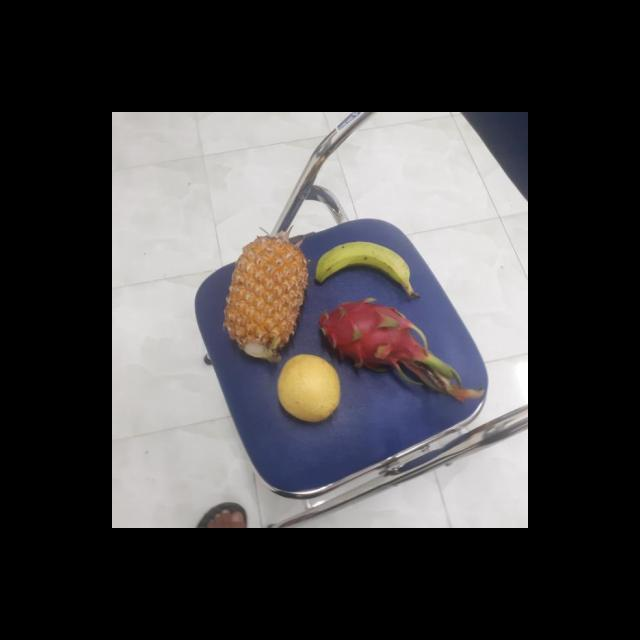banana: (314, 241, 412, 298)
pear: (274, 355, 344, 424)
pineapple: (222, 236, 308, 360)
pitaya: (312, 301, 428, 378)
